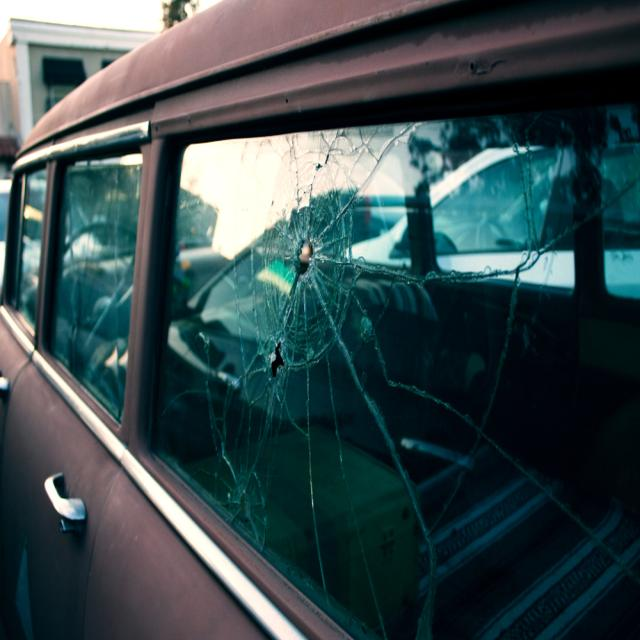Fissure: (208, 104, 640, 640)
